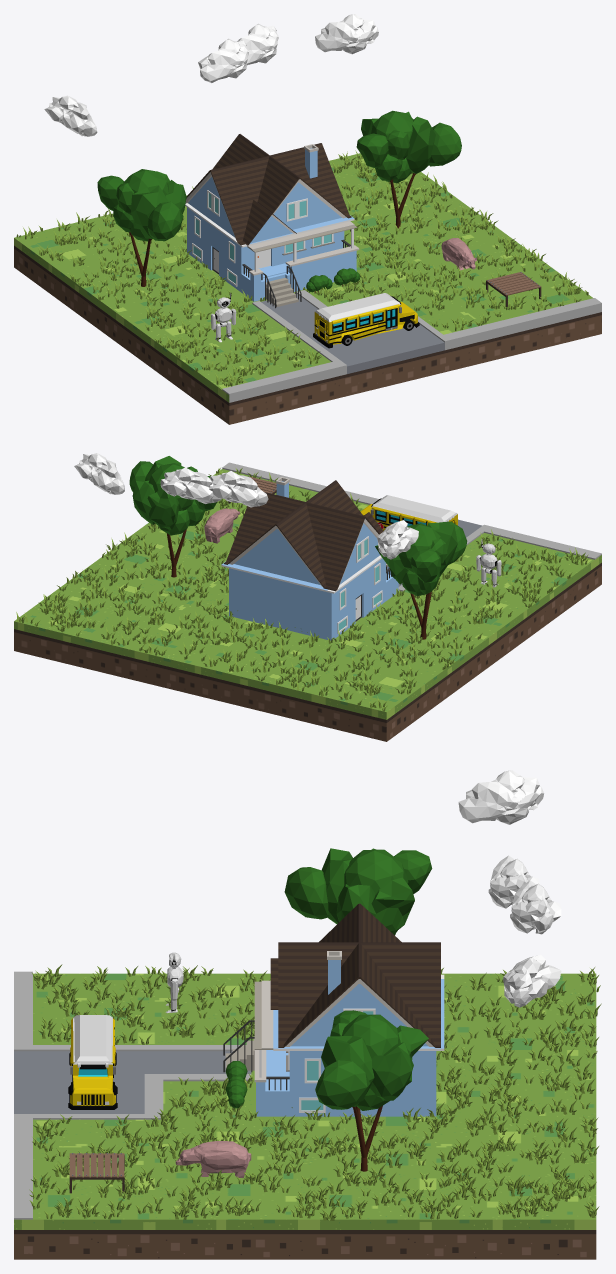
The picture shows the model from 3 angles, top to bottom: view 1: azimuth 30°, elevation 25°; view 2: azimuth 150°, elevation 25°; view 3: azimuth 270°, elevation 25°; orthographic projection. The views are drawn at different scales.
Visible parts, largest first — view 1: Cube.006, Cube.1594, Circle.012_Grass_0.192, Cube.007, tree, tree.001, VEHICLES_SCHOOL_BUS, Cube.009, ANIMAL_HIPOPOTAMO, OBJRANDOM_PLATZEEBOT; view 2: Cube.006, Cube.1594, Circle.012_Grass_0.192, Cube.007, tree.001, tree, VEHICLES_SCHOOL_BUS, ANIMAL_HIPOPOTAMO, OBJRANDOM_PLATZEEBOT; view 3: Cube.006, Circle.012_Grass_0.192, Cube.1594, tree, Cube.007, tree.001, VEHICLES_SCHOOL_BUS, ANIMAL_HIPOPOTAMO, Cube.009, OBJRANDOM_PLATZEEBOT.
Boxes of the visible parts, x1,y1,x2,y2 form: Cube.006: (14,153,601,424); Cube.1594: (185,134,359,308); Circle.012_Grass_0.192: (16,150,588,386); Cube.007: (44,14,378,136); tree: (356,110,461,228); tree.001: (97,169,186,286); VEHICLES_SCHOOL_BUS: (313,293,419,348); Cube.009: (486,272,541,306); ANIMAL_HIPOPOTAMO: (441,238,476,270); OBJRANDOM_PLATZEEBOT: (211,292,236,342); Cube.006: (14,462,601,741); Cube.1594: (221,477,398,640); Circle.012_Grass_0.192: (16,468,588,711); Cube.007: (74,453,418,559); tree.001: (375,521,467,639); tree: (129,456,216,577); VEHICLES_SCHOOL_BUS: (360,495,457,530); ANIMAL_HIPOPOTAMO: (204,508,239,543); OBJRANDOM_PLATZEEBOT: (476,539,501,587); Cube.006: (14,971,596,1259); Circle.012_Grass_0.192: (29,964,601,1220); Cube.1594: (223,903,444,1116); tree: (315,1010,428,1171); Cube.007: (458,770,561,1007); tree.001: (284,848,432,935); VEHICLES_SCHOOL_BUS: (68,1015,117,1109); ANIMAL_HIPOPOTAMO: (175,1141,251,1177); Cube.009: (69,1153,124,1193); OBJRANDOM_PLATZEEBOT: (165,952,183,1013).
Bounding box in the file's own units: 4071 × 2198 × 4040.
38 materials, 4 textured.
